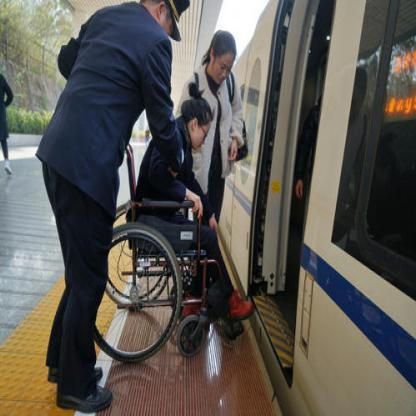wheelchair: (106, 95, 249, 353)
